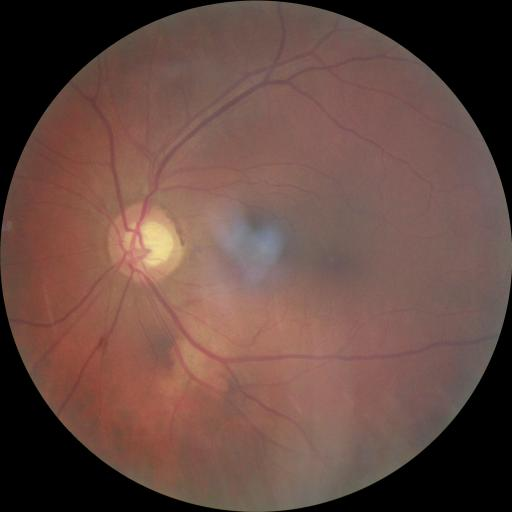Optic Cup: (125, 221, 174, 267)
Optic Disc: (107, 200, 184, 280)
